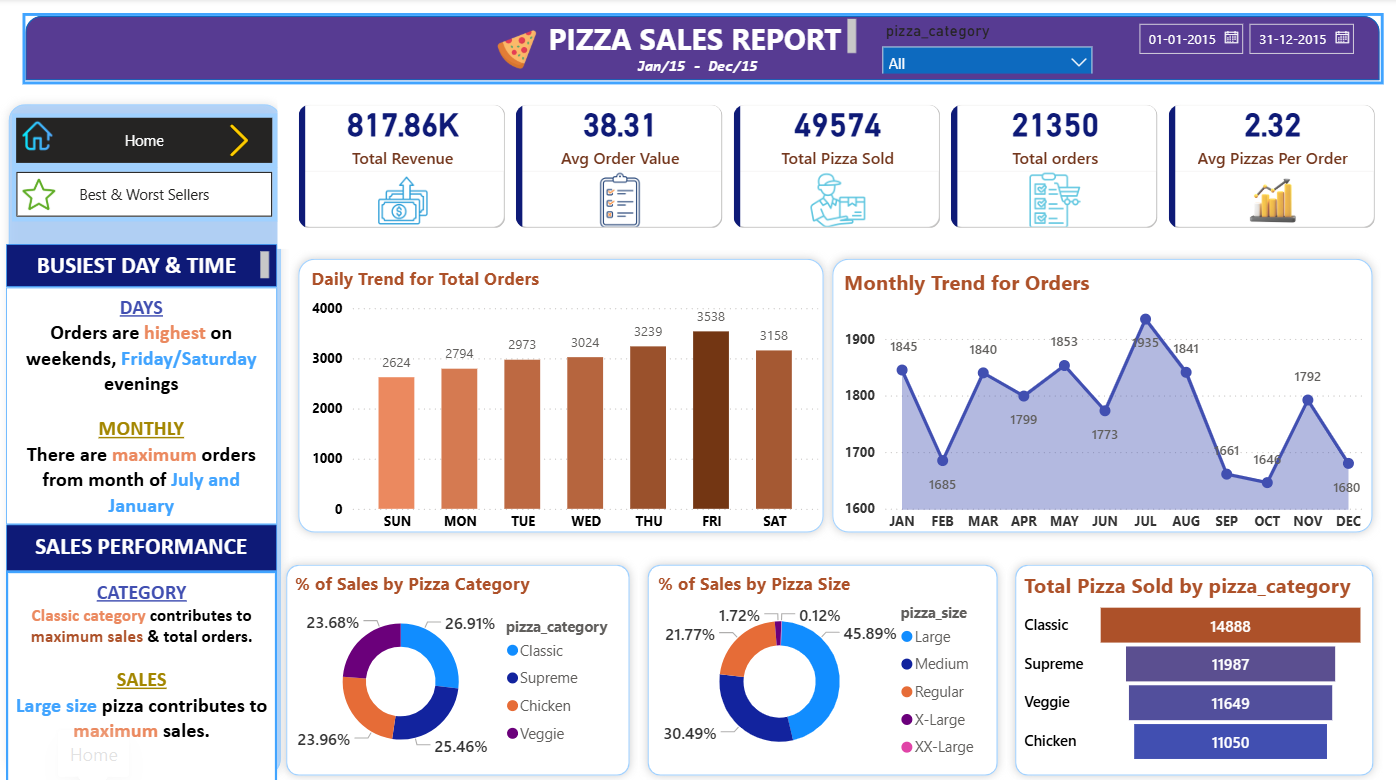

Layout of this report page (visuals, bound fields, positions):
{"tool":"powerbi","page":{"name":"Home","canvas":[1280,720],"ordinal":0},"visuals":[{"type":"shape","box":[0,89.3,265,629.9],"z":0},{"type":"cardVisual","fields":{"Data":["pizza_sales.Total Revenue","pizza_sales.Avg Order Value","pizza_sales.Total Pizza Sold","pizza_sales.Total orders","pizza_sales.Avg Pizzas Per Order"]},"box":[254.4,78.7,1025.1,151.4],"z":1000},{"type":"shape","box":[20,13.3,1245,65],"z":2000},{"type":"textbox","box":[491.7,13.3,296.7,43.3],"z":3000},{"type":"textbox","box":[578.3,46.7,128.3,41.7],"z":4000},{"type":"image","box":[441.7,28.3,61.7,36.7],"z":5000},{"type":"shape","box":[265,230.2,496.7,266.5],"z":6000},{"type":"columnChart","title":"Daily Trend for Total Orders","fields":{"Category":["pizza_sales.Order Day"],"Y":["pizza_sales.Total orders"]},"box":[280.1,245.3,473.9,251.4],"z":7000},{"type":"shape","box":[754.1,230.2,510.3,266.5],"z":8000},{"type":"areaChart","title":"Monthly Trend for Orders","fields":{"Category":["pizza_sales.Order Month"],"Y":["pizza_sales.Total orders"]},"box":[767.7,246.8,486.1,249.8],"z":9000},{"type":"shape","box":[584.5,510.3,336.2,209],"z":10000},{"type":"shape","box":[920.6,510.3,343.7,209],"z":11000},{"type":"shape","box":[254.4,510.3,330.1,209],"z":12000},{"type":"donutChart","title":"% of Sales by Pizza Category","fields":{"Category":["pizza_sales.pizza_category"],"Y":["pizza_sales.Total Revenue"]},"box":[265,523.9,302.8,180.2],"z":13000},{"type":"donutChart","title":"% of Sales by Pizza Size","fields":{"Category":["pizza_sales.pizza_size"],"Y":["pizza_sales.Total Revenue"]},"box":[596.6,523.9,311.9,180.2],"z":14000},{"type":"funnel","fields":{"Category":["pizza_sales.pizza_category"],"Y":["pizza_sales.Total Pizza Sold"]},"box":[931.2,523.9,322.5,180.2],"z":15000},{"type":"textbox","box":[6.1,225.6,248.3,39.4],"z":16000},{"type":"textbox","box":[6.1,265,248.3,216.5],"z":17000},{"type":"textbox","box":[6.1,523.9,248.3,195.3],"z":18000},{"type":"textbox","box":[6.1,481.5,248.3,42.4],"z":19000},{"type":"slicer","title":"Pizza Category","fields":{"Values":["pizza_sales.pizza_category"]},"box":[798,16.7,212,53],"z":20000},{"type":"slicer","title":"Pizza Category","fields":{"Values":["pizza_sales.order_date"]},"box":[1029.7,13.6,224.1,65.1],"z":21000},{"type":"pageNavigator","box":[11,105.7,242.9,49.4],"z":22000},{"type":"pageNavigator","box":[11,155.1,242.9,49.4],"z":23000},{"type":"image","box":[194.9,115.3,48,30.2],"z":24000},{"type":"image","box":[20.6,107,27.4,38.4],"z":24001},{"type":"image","box":[20.6,164.7,30.2,30.2],"z":24002}]}

Visuals, with their boxes in screenshot pixels (x1, y1, x2, y2), scaled from the page's 1280x720 canvas onto the 1396x780 screenshot:
shape: 0 97 289 779
cardVisual - pizza_sales.Total Revenue x pizza_sales.Avg Order Value: 277 85 1395 249
shape: 22 14 1380 85
textbox: 536 14 860 61
textbox: 631 51 771 96
image: 482 31 549 70
shape: 289 249 831 538
"Daily Trend for Total Orders" columnChart: 305 266 822 538
shape: 822 249 1379 538
"Monthly Trend for Orders" areaChart: 837 267 1367 538
shape: 637 553 1004 779
shape: 1004 553 1379 779
shape: 277 553 637 779
"% of Sales by Pizza Category" donutChart: 289 568 619 763
"% of Sales by Pizza Size" donutChart: 651 568 991 763
funnel - pizza_sales.pizza_category x pizza_sales.Total Pizza Sold: 1016 568 1367 763
textbox: 7 244 277 287
textbox: 7 287 277 522
textbox: 7 568 277 779
textbox: 7 522 277 568
"Pizza Category" slicer: 870 18 1102 76
"Pizza Category" slicer: 1123 15 1367 85
pageNavigator: 12 115 277 168
pageNavigator: 12 168 277 222
image: 213 125 265 158
image: 22 116 52 158
image: 22 178 55 211
